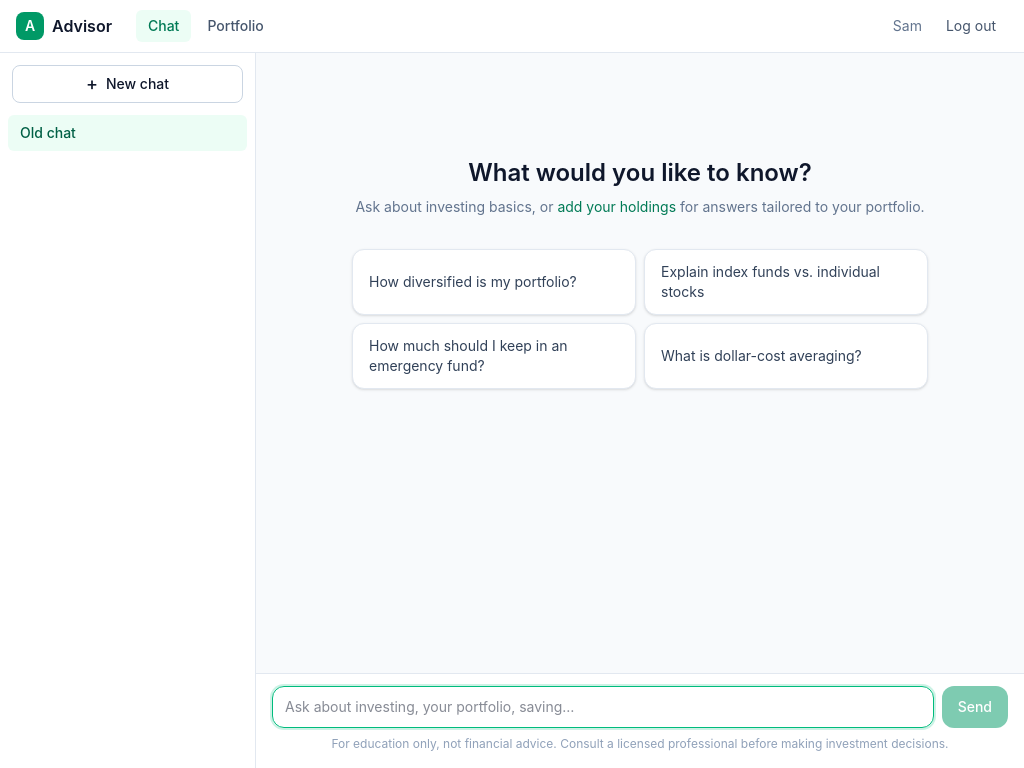
Test case: chat › keeps the typed message and shows the error when sending fails
Type "Another question" into the text box with placeholder "Ask about investing, your portfolio, saving…". click: (603, 707)
box: [272,686,934,728]
Then press Enter
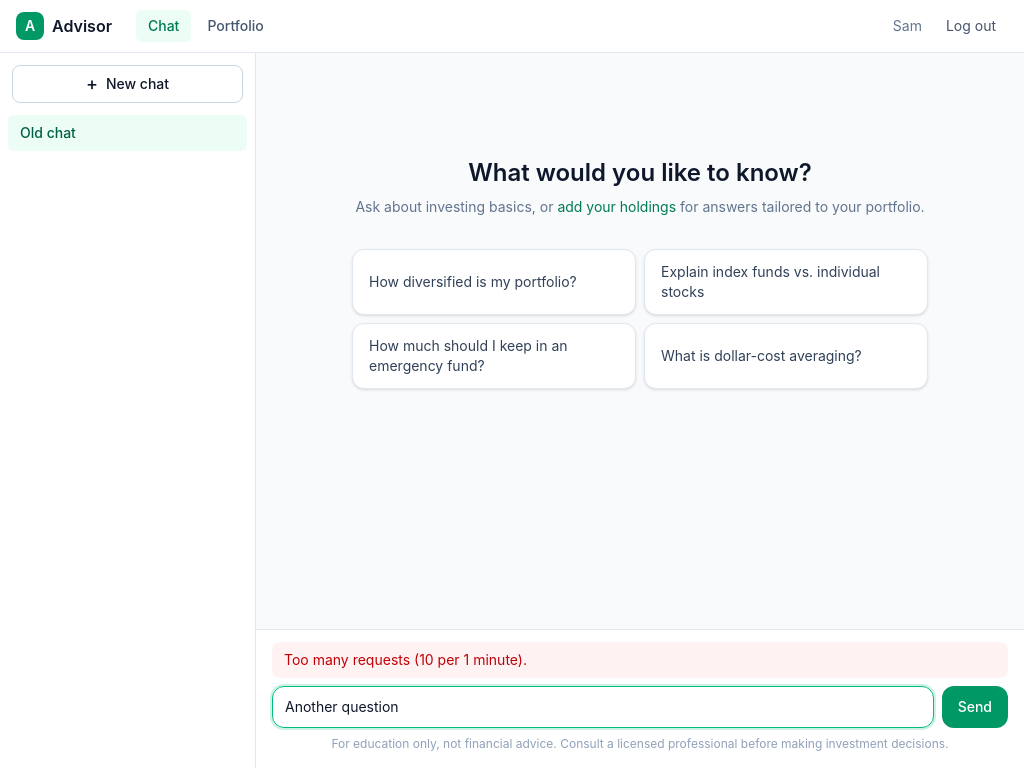
Now the text "Too many requests (10 per 1 minute)." is shown, box [272,642,1008,678]
